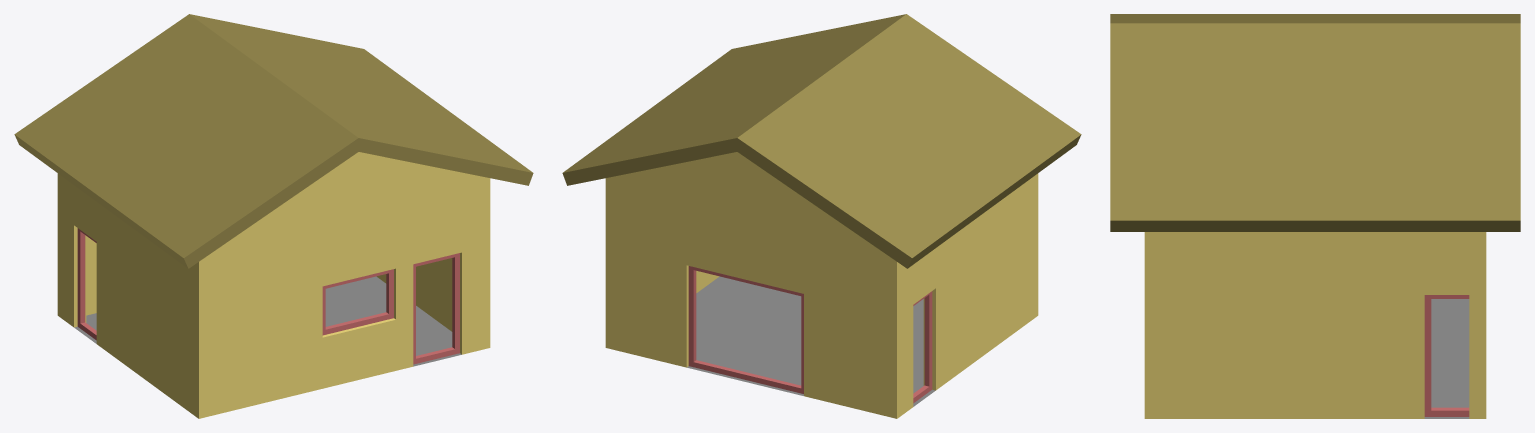
File: result.glb
The picture shows the model from 3 angles, left to right: view 1: azimuth 30°, elevation 25°; view 2: azimuth 150°, elevation 25°; view 3: azimuth 270°, elevation 25°; orthographic projection. The views are drawn at different scales.
Parts seen in each view (by area): view 1: f820e576-0ad8-454b-ab79-3ac0e182c5b4__undefined, c02ce79f-5582-4701-aa8a-8c9ef1c71ff6__undefined (×2), 01dd6ef3-3167-44a7-b1ea-fdaae14faa8d__Plane_6, 76d1adb7-2bdd-4547-894f-856db446f592__Box, 4bb413c5-bc38-4333-9624-6db2b19f5a73__Box_3, 74981275-75f2-44be-985e-a5dee43b77db__Box_12; view 2: f820e576-0ad8-454b-ab79-3ac0e182c5b4__undefined, c02ce79f-5582-4701-aa8a-8c9ef1c71ff6__undefined (×2), 01dd6ef3-3167-44a7-b1ea-fdaae14faa8d__Plane_6, c9cc61a7-20ac-4f2a-9222-3e9b5f6c801d__Box_9, 74981275-75f2-44be-985e-a5dee43b77db__Box_12; view 3: c02ce79f-5582-4701-aa8a-8c9ef1c71ff6__undefined (×2), f820e576-0ad8-454b-ab79-3ac0e182c5b4__undefined, 01dd6ef3-3167-44a7-b1ea-fdaae14faa8d__Plane_6, d7037ab4-0c65-49c6-99f7-c892110a81e2__Box_15.
Boxes of the visible parts, <box> form: f820e576-0ad8-454b-ab79-3ac0e182c5b4__undefined: <box>57,152,490,418</box>; c02ce79f-5582-4701-aa8a-8c9ef1c71ff6__undefined (×2): <box>14,14,533,268</box>; 01dd6ef3-3167-44a7-b1ea-fdaae14faa8d__Plane_6: <box>74,276,461,366</box>; 76d1adb7-2bdd-4547-894f-856db446f592__Box: <box>413,253,459,364</box>; 4bb413c5-bc38-4333-9624-6db2b19f5a73__Box_3: <box>322,269,393,335</box>; 74981275-75f2-44be-985e-a5dee43b77db__Box_12: <box>77,228,96,340</box>; f820e576-0ad8-454b-ab79-3ac0e182c5b4__undefined: <box>605,152,1038,418</box>; c02ce79f-5582-4701-aa8a-8c9ef1c71ff6__undefined (×2): <box>562,14,1081,268</box>; 01dd6ef3-3167-44a7-b1ea-fdaae14faa8d__Plane_6: <box>687,276,935,406</box>; c9cc61a7-20ac-4f2a-9222-3e9b5f6c801d__Box_9: <box>688,266,803,393</box>; 74981275-75f2-44be-985e-a5dee43b77db__Box_12: <box>913,291,932,403</box>; c02ce79f-5582-4701-aa8a-8c9ef1c71ff6__undefined (×2): <box>1110,14,1520,231</box>; f820e576-0ad8-454b-ab79-3ac0e182c5b4__undefined: <box>1144,232,1486,418</box>; 01dd6ef3-3167-44a7-b1ea-fdaae14faa8d__Plane_6: <box>1424,299,1469,418</box>; d7037ab4-0c65-49c6-99f7-c892110a81e2__Box_15: <box>1424,295,1469,416</box>.
Bounding box in the file's own units: 716 × 500 × 600.
